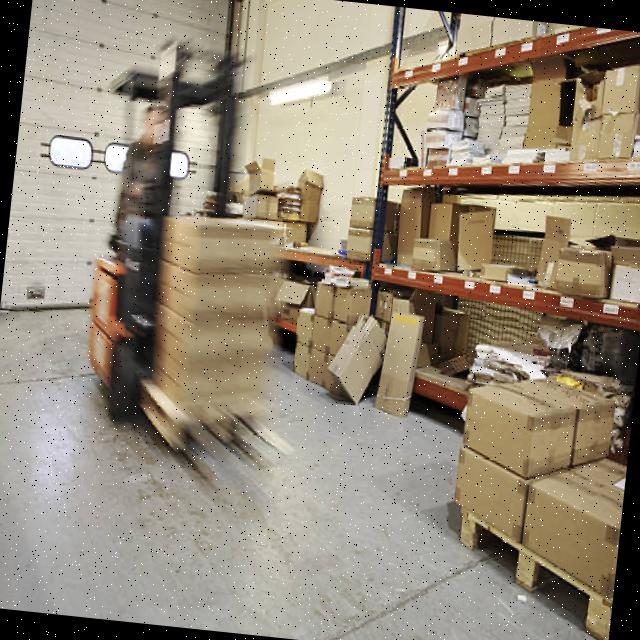Wooden-Pallets: (451, 500, 602, 640)
